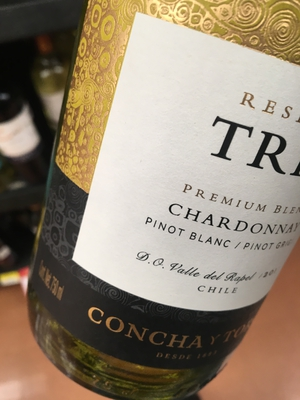trio chardonnay: (39, 2, 300, 397)
